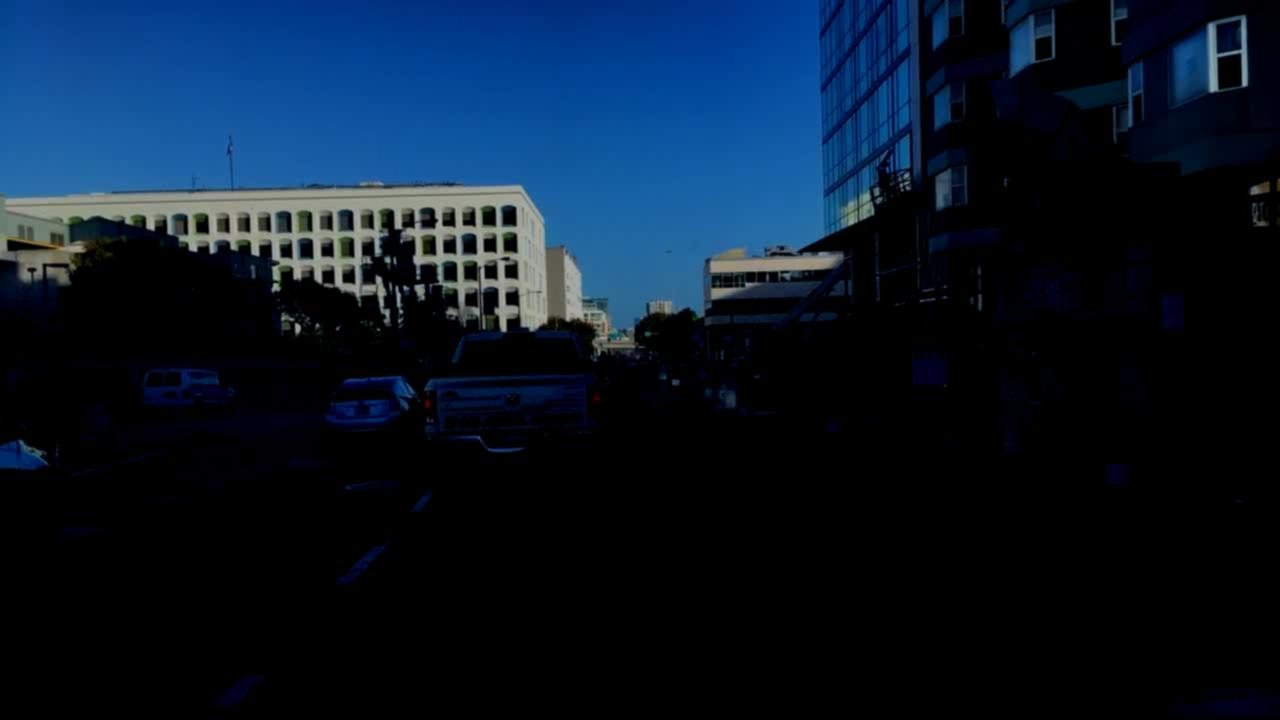ram: (503, 386, 524, 409)
